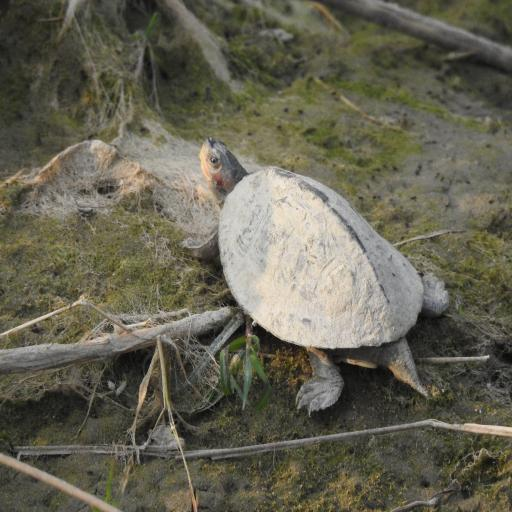turtle: (202, 135, 453, 418)
